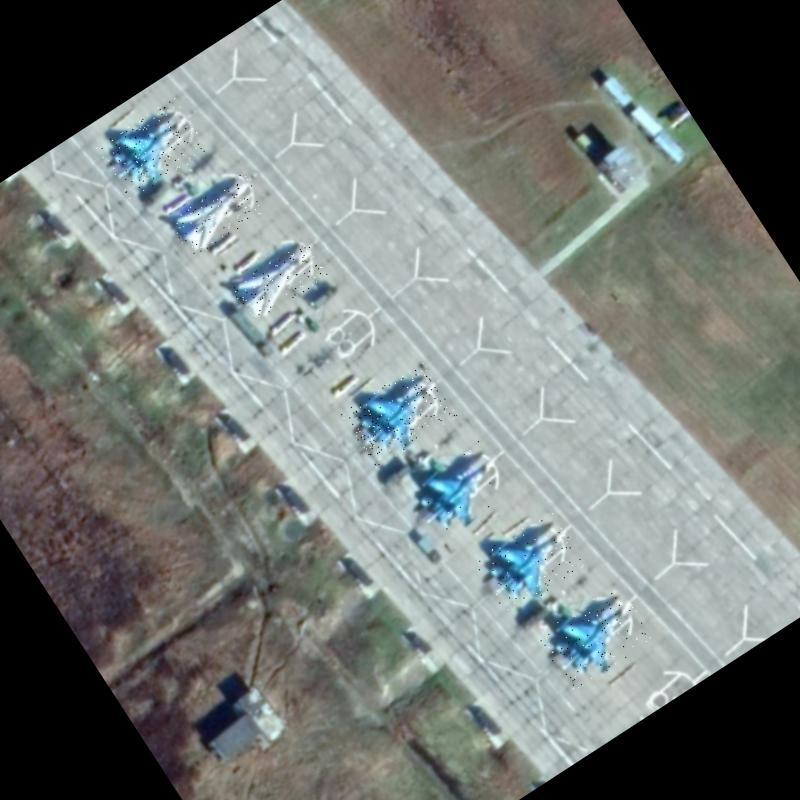A19: (536, 582, 656, 694), (400, 438, 519, 548), (472, 508, 590, 618), (341, 360, 458, 468), (97, 97, 209, 201)
A20: (168, 172, 268, 258), (230, 239, 330, 325)
